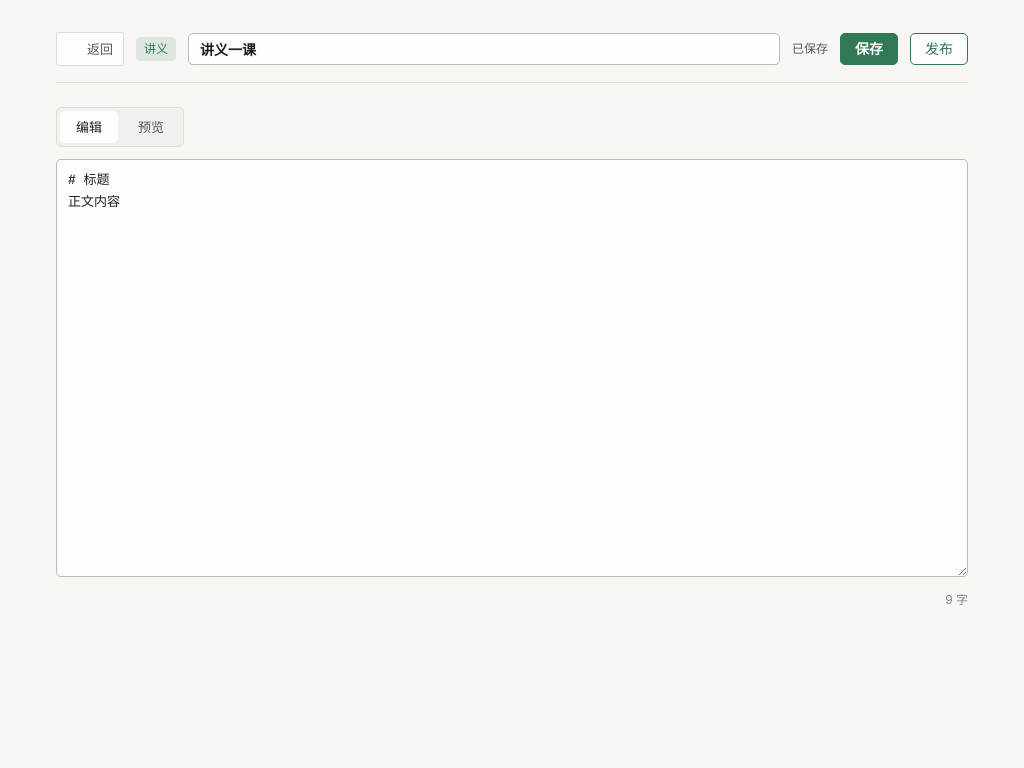
Scenario: LessonMarkdownEditor › 有修改时守卫拦截并弹自定义确认框，取消留在页面
Step 1. Replace the text in the text box with class "content-textarea" with "改动一下" → (512, 368), box [56,159,968,577]
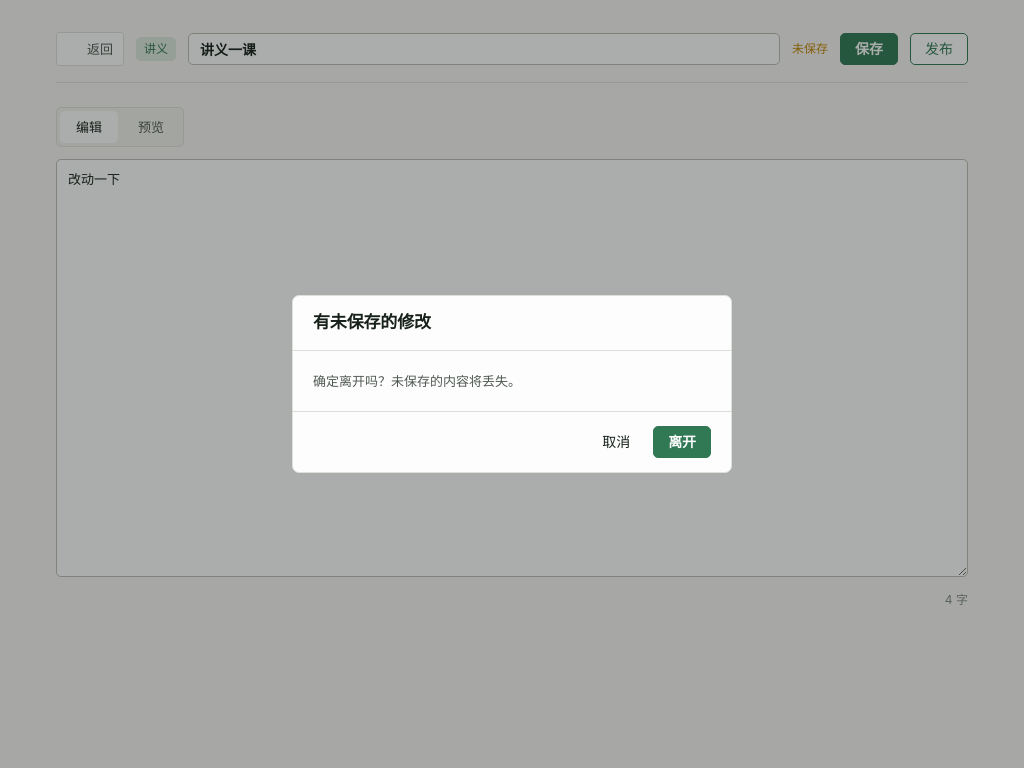
expect the text "有未保存的修改" is shown: met, box [313,312,431,334]
Step 2. Click the button "取消" → (616, 442), box [587,426,645,458]
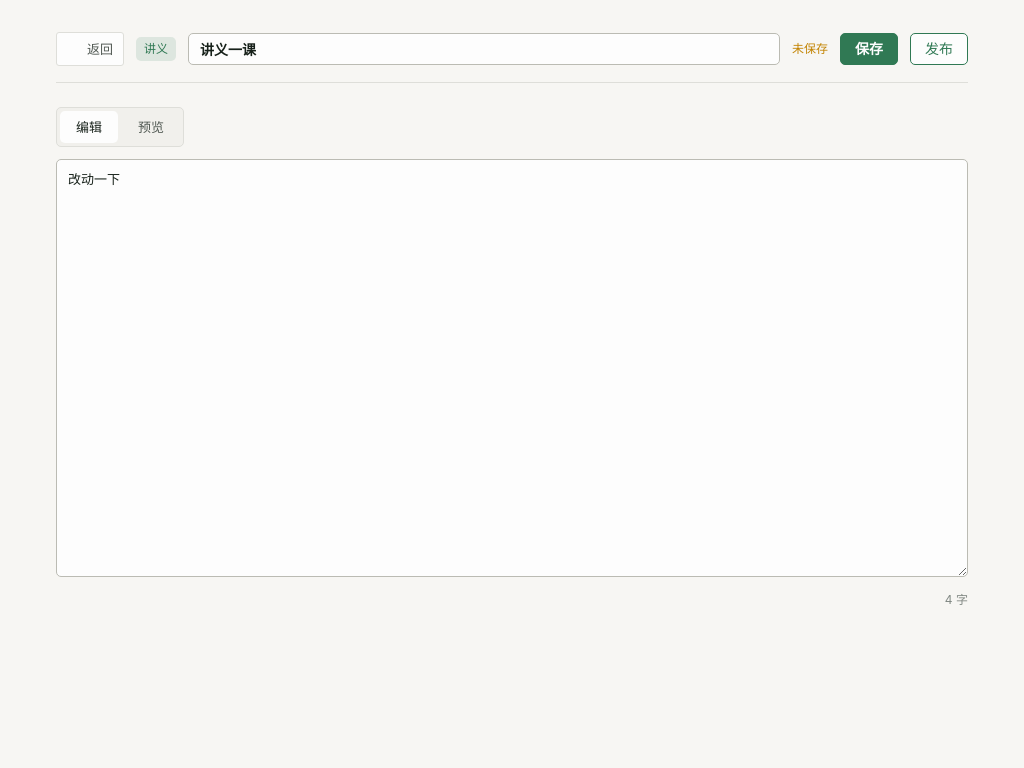
expect the text "有未保存的修改" is gone: met
